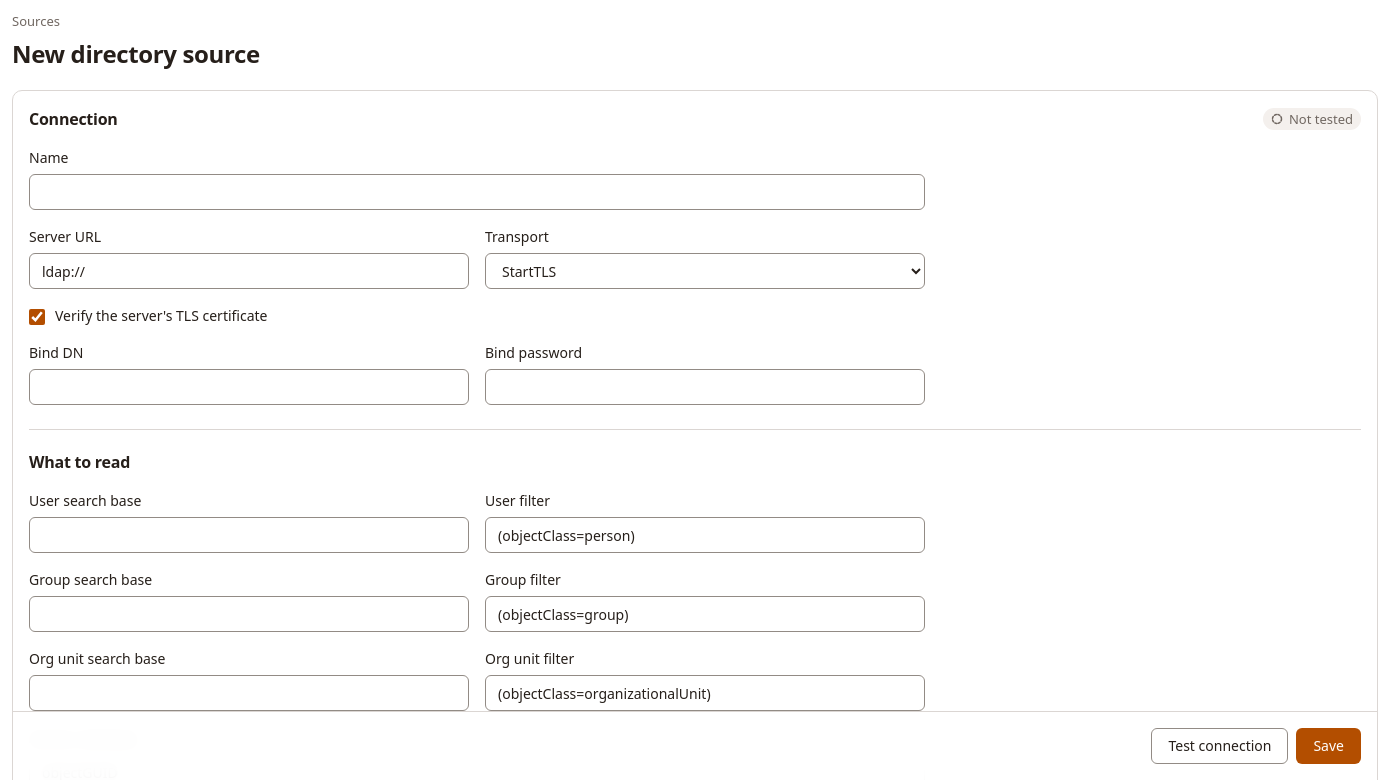
Scenario: creating a source › carries the outcome across the move to the saved source
This screenshot has width=1390, height=780.
Step 1. Type "Acme LDAP" into the field labelled "Name" → (477, 192), box x1=29 y1=174 x2=925 y2=210
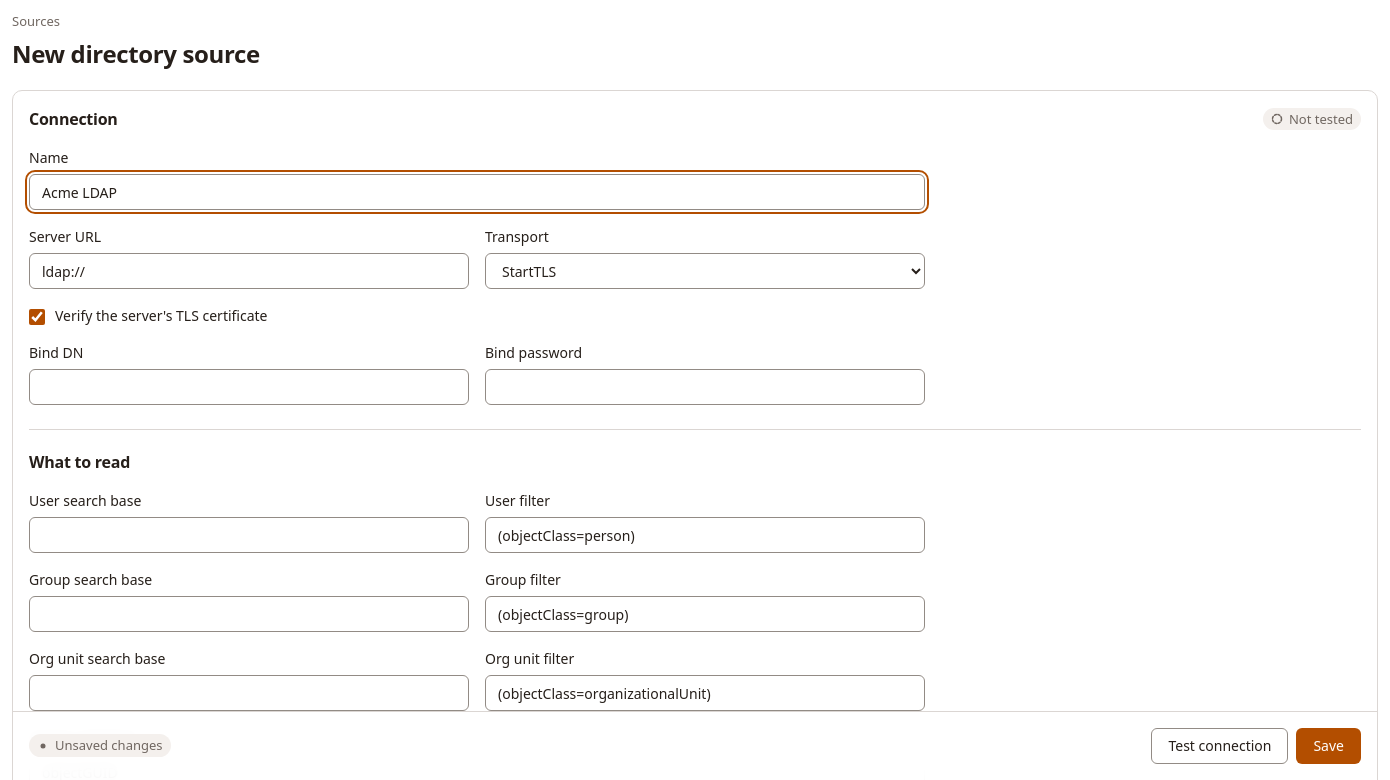
Step 2. Type "secret" into the password field labelled "Bind password" → (705, 387), box x1=485 y1=369 x2=925 y2=405
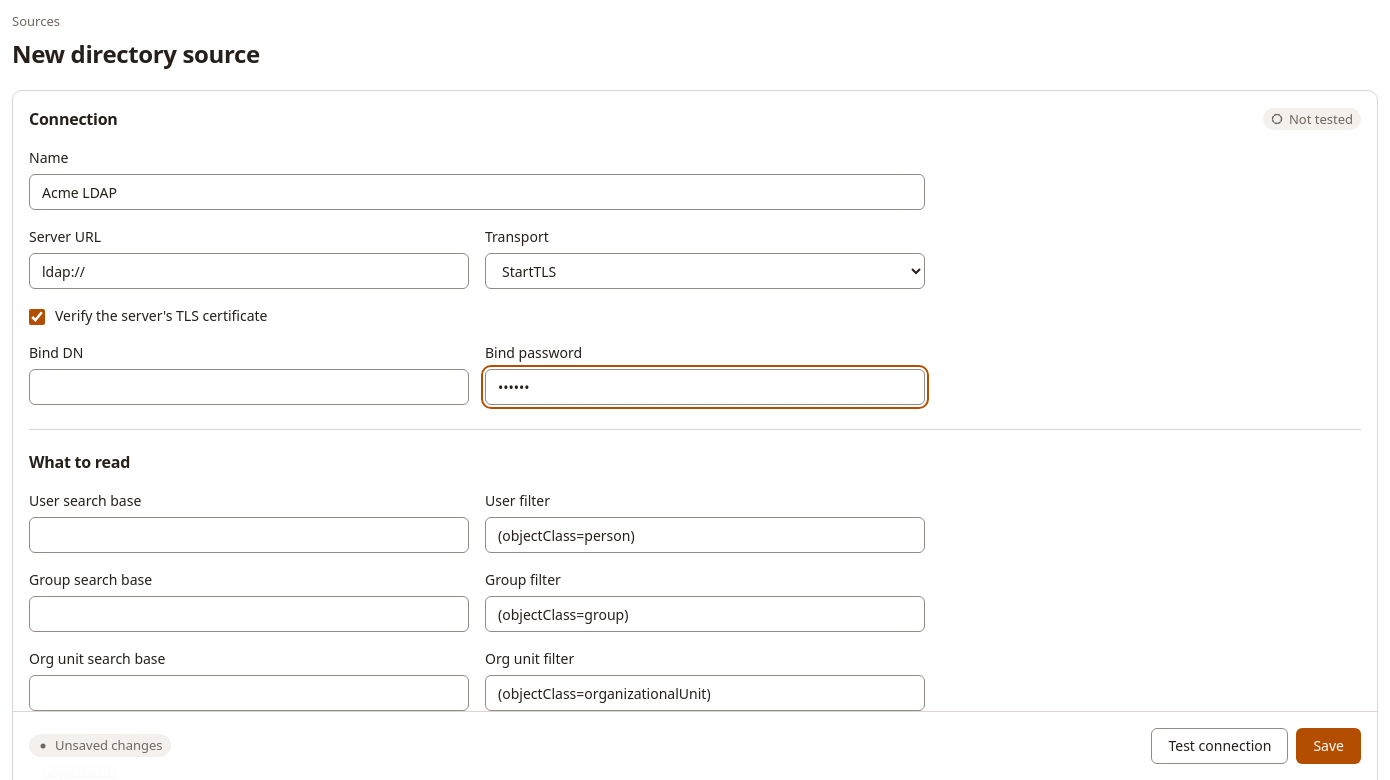
Step 3. Click the button "Save" → (1329, 746), box x1=1296 y1=728 x2=1361 y2=764
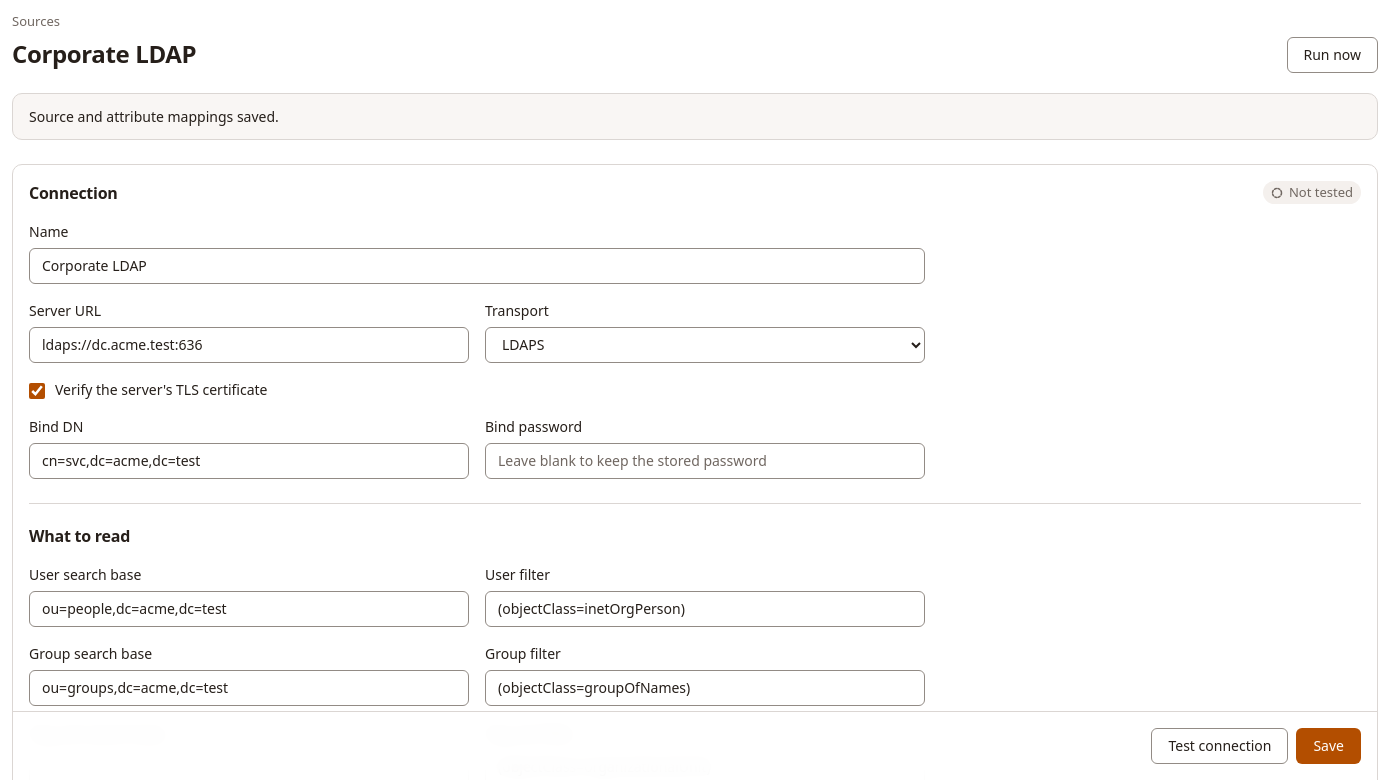
Expected: the text "Source and attribute mappings saved." is shown, x1=29 y1=107 x2=279 y2=126
